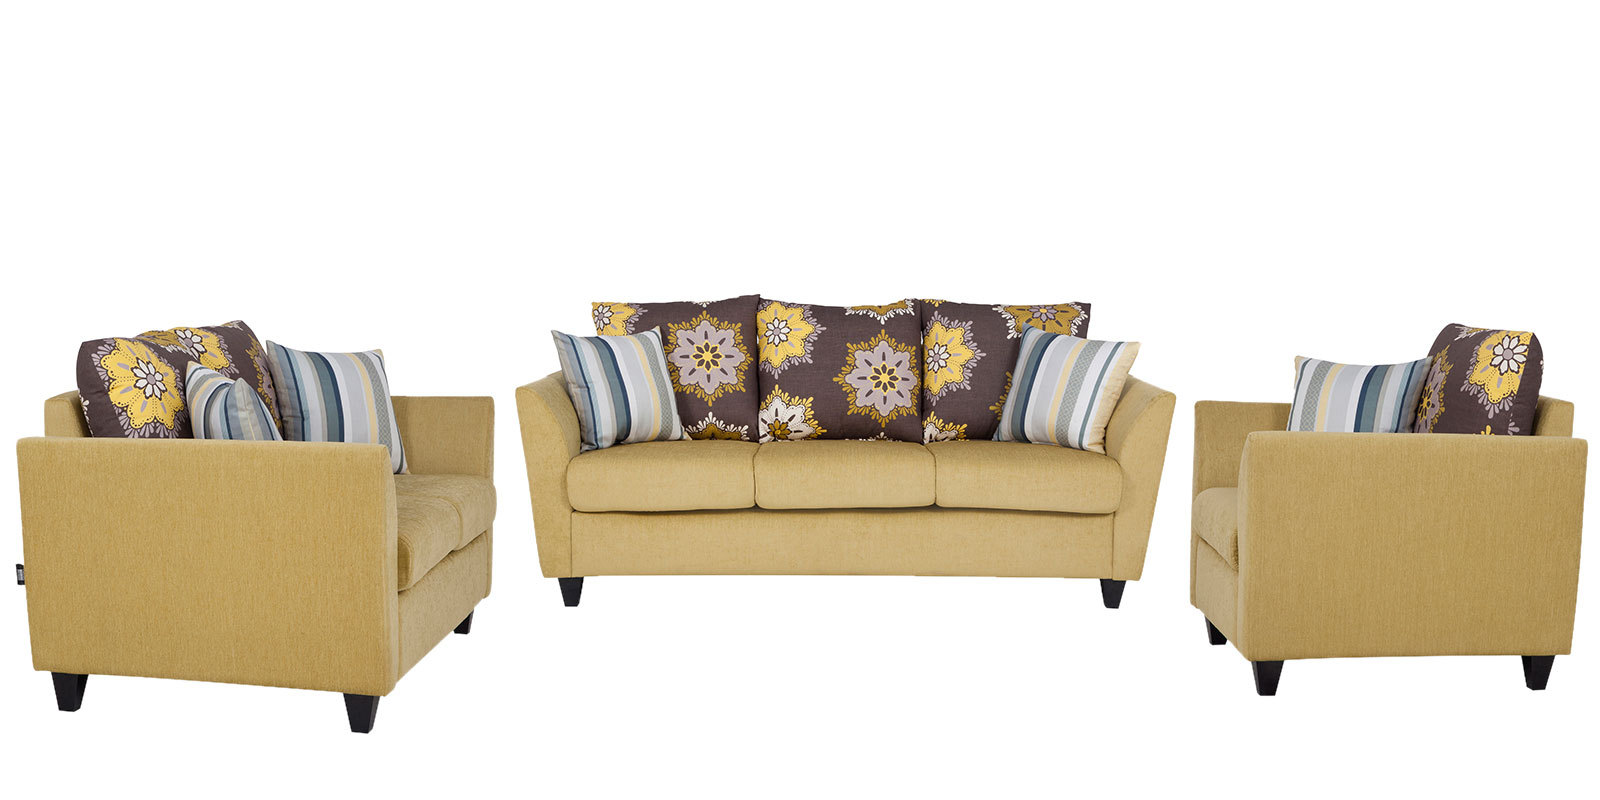Rio Brilliance Three Seater Sofa in Yellow Colour by Urban Living: (16, 288, 1590, 742)
